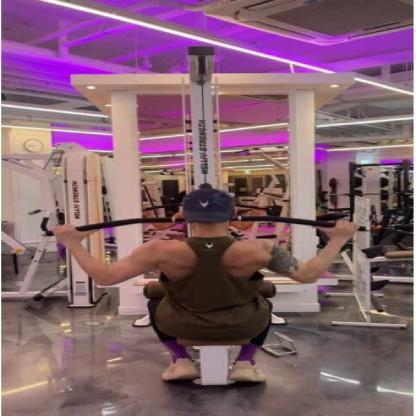Lat Pull Down: (26, 36, 382, 406)
